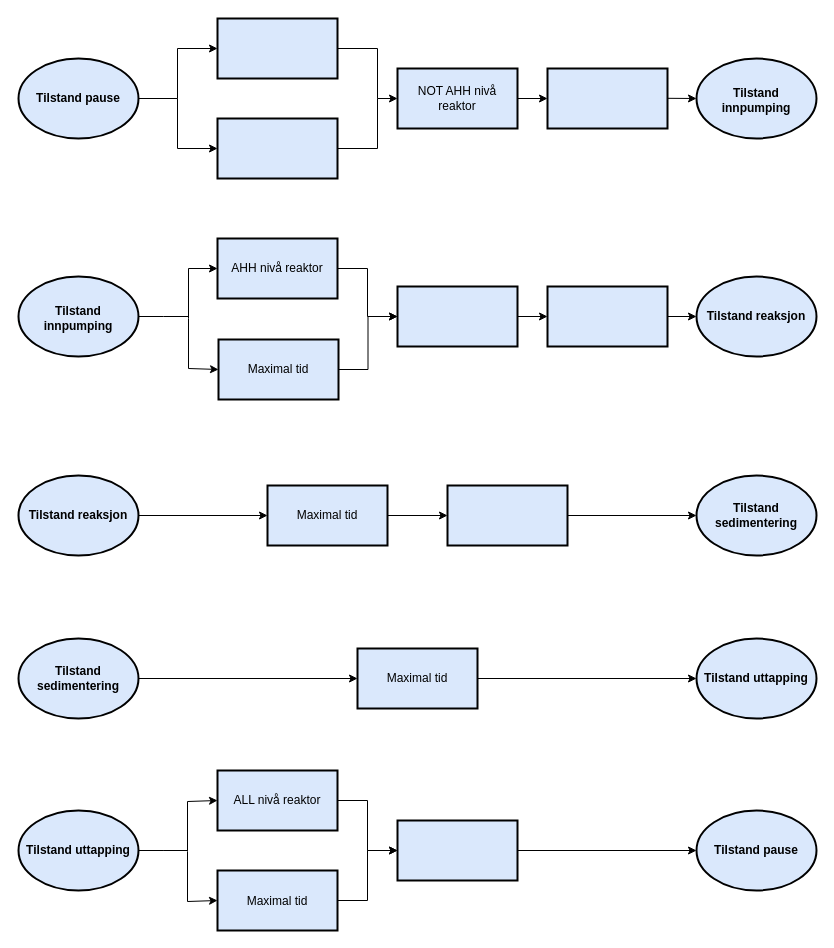
Image size: 834x948. Some labels were removed from this diagram. The shapes that lost their labels are listed below. From the top down, each one's centre as x and y in pixels, then its label:
At (277,48): "AHH nivå mottakstank".
At (607,98): "NOT XB Innpumping forrigling".
At (277,148): "Y nivåvippe lav mottakstank".
At (457,316): "XGL matepumpe".
At (607,316): "XGL reaktorventil".
At (507,515): "XGL blåser".
At (457,850): "XGL uttappingsventil".
